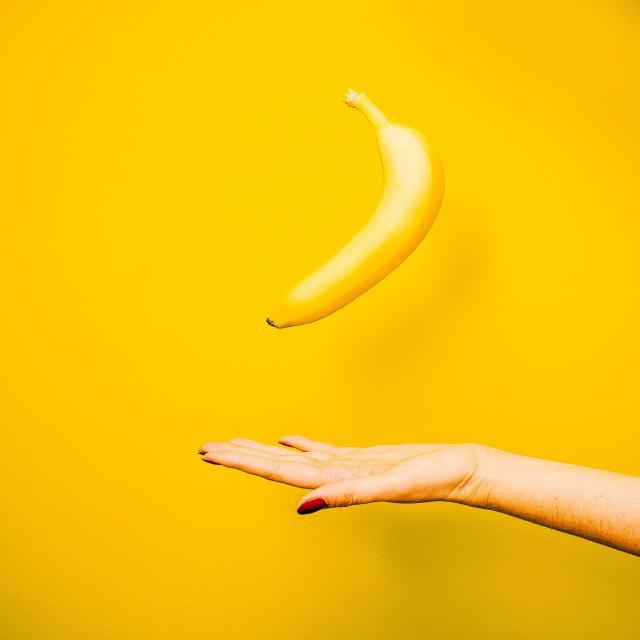banana: (257, 89, 452, 356)
